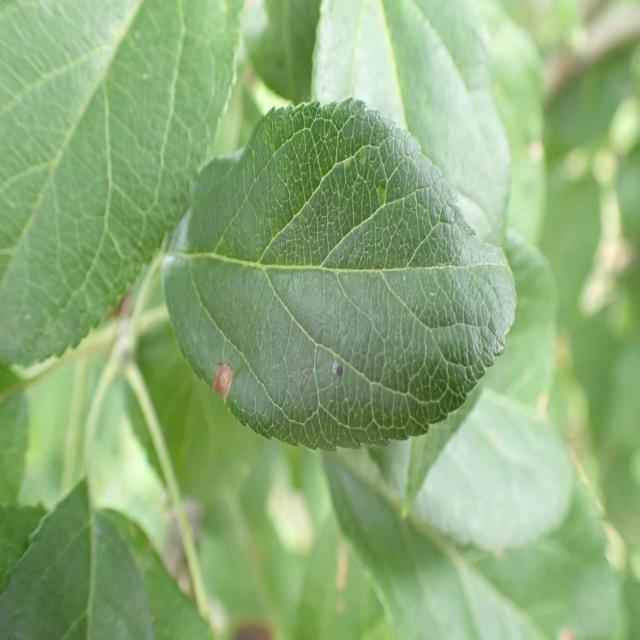Black Rot: (205, 348, 237, 419)
